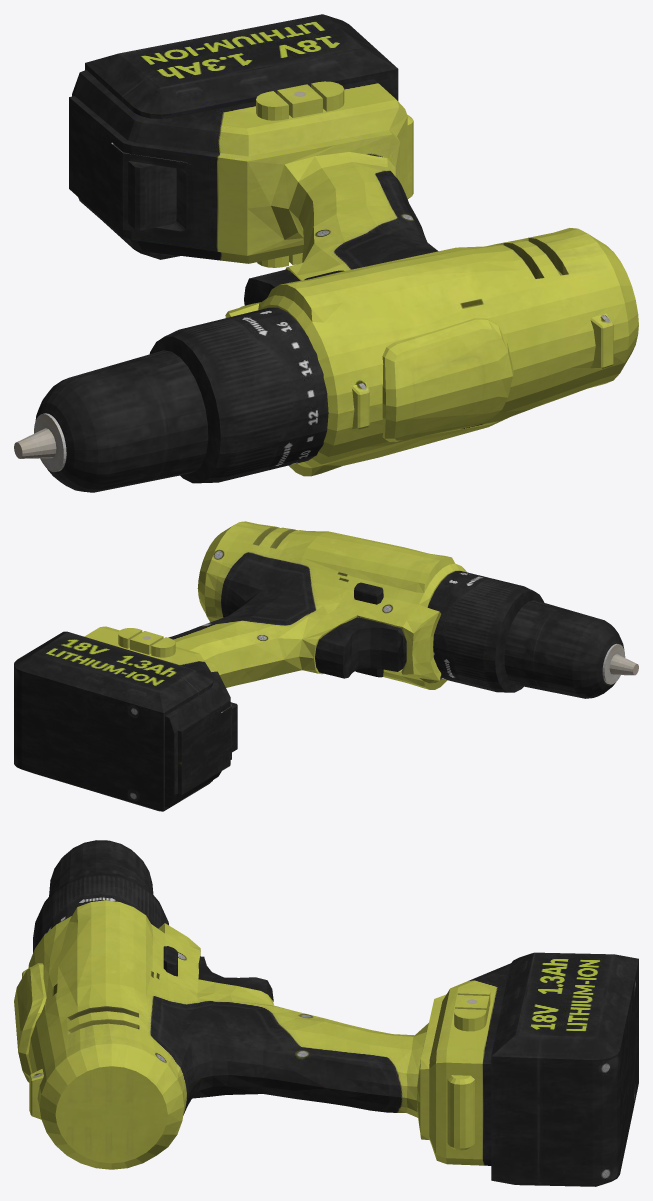
The model's file is Drill_01.obj.
3 renders of one model, top to bottom at view 1: azimuth 30°, elevation 25°; view 2: azimuth 150°, elevation 25°; view 3: azimuth 270°, elevation 25°, orthographic. The views are drawn at different scales.
Bounding box in the file's own units: 0.2075 × 0.0595 × 0.21.
Materials: 1 (1 with a texture image).
